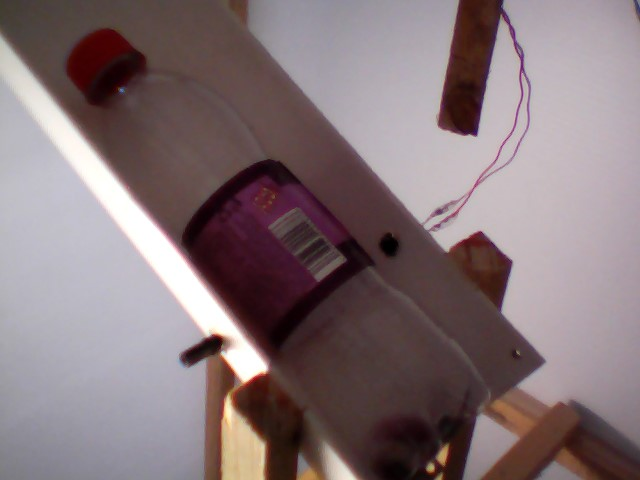plastico: (60, 17, 498, 480)
